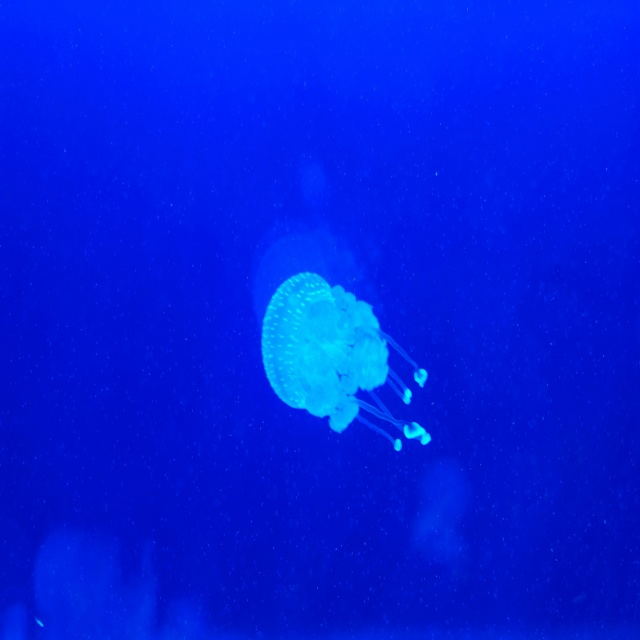Jellyfish: (256, 266, 428, 458)
